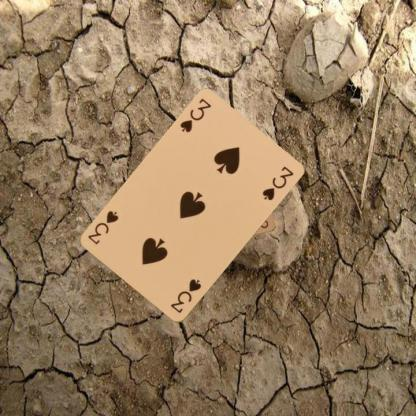3s: (167, 276, 202, 316), (176, 96, 212, 134)
